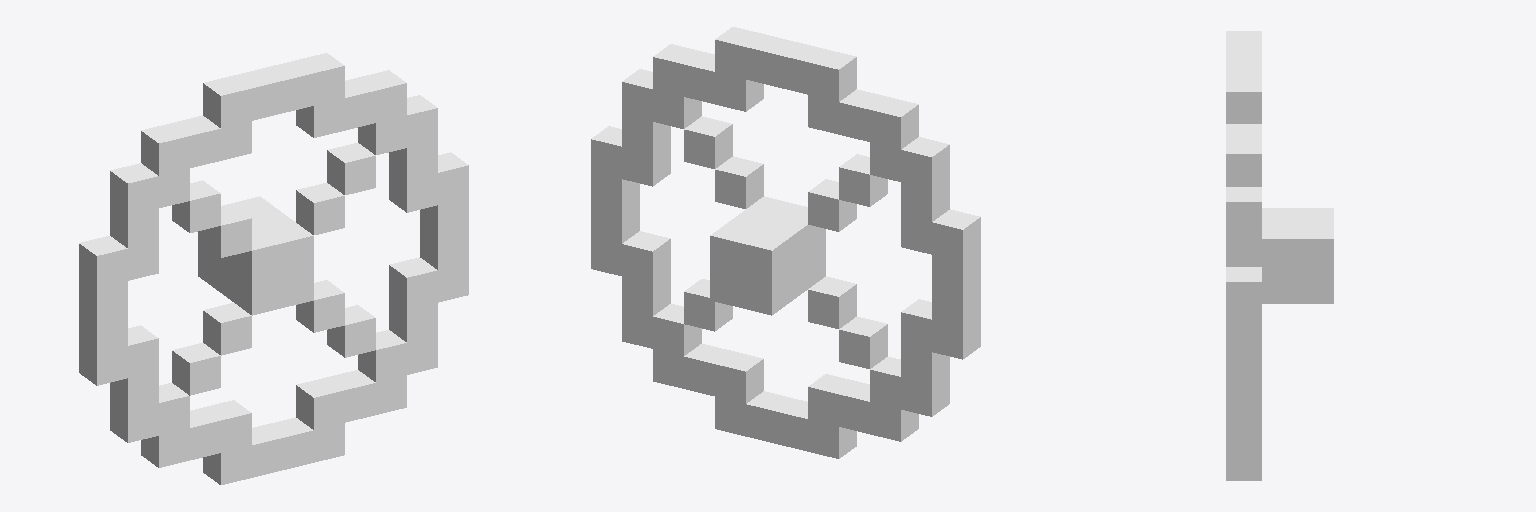
File: bankDoorHand.obj
3 views of the same model, side by side, from view 1: azimuth 30°, elevation 25°; view 2: azimuth 150°, elevation 25°; view 3: azimuth 270°, elevation 25° (orthographic).
Parts seen in each view (by area): view 1: object 1; view 2: object 1; view 3: object 1.
Boxes of the visible parts, x1,y1,x2,y2 form: object 1: [79, 53, 468, 484]; object 1: [591, 27, 980, 458]; object 1: [1226, 31, 1333, 480].
Size of the model in its own units: 1.2 by 1.2 by 0.3.